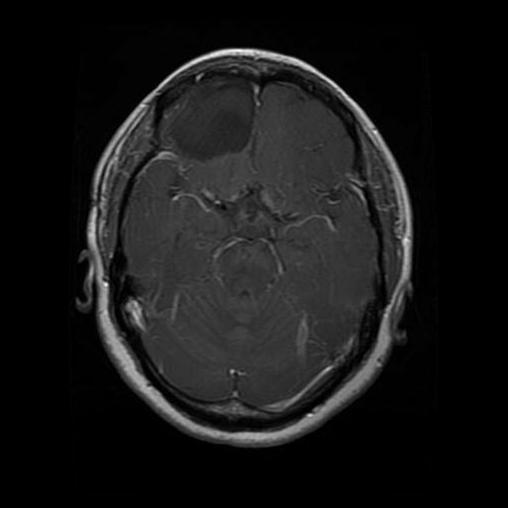Tumour-Glioma: (159, 64, 269, 165)
